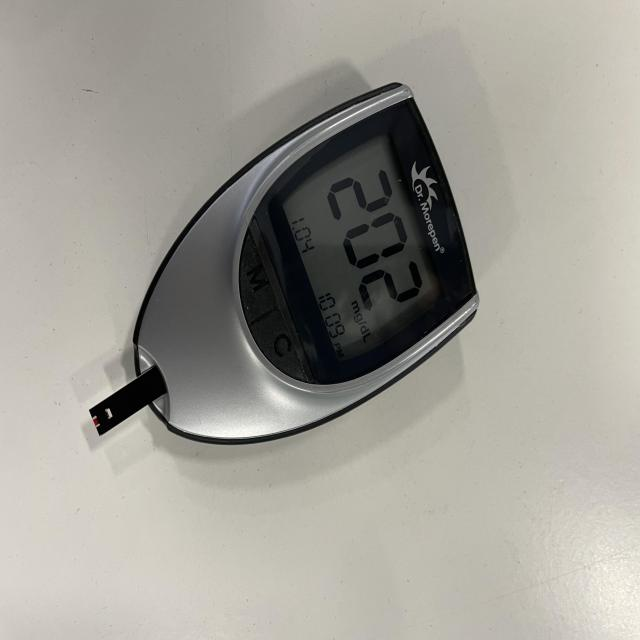gluco: (89, 83, 480, 448)
